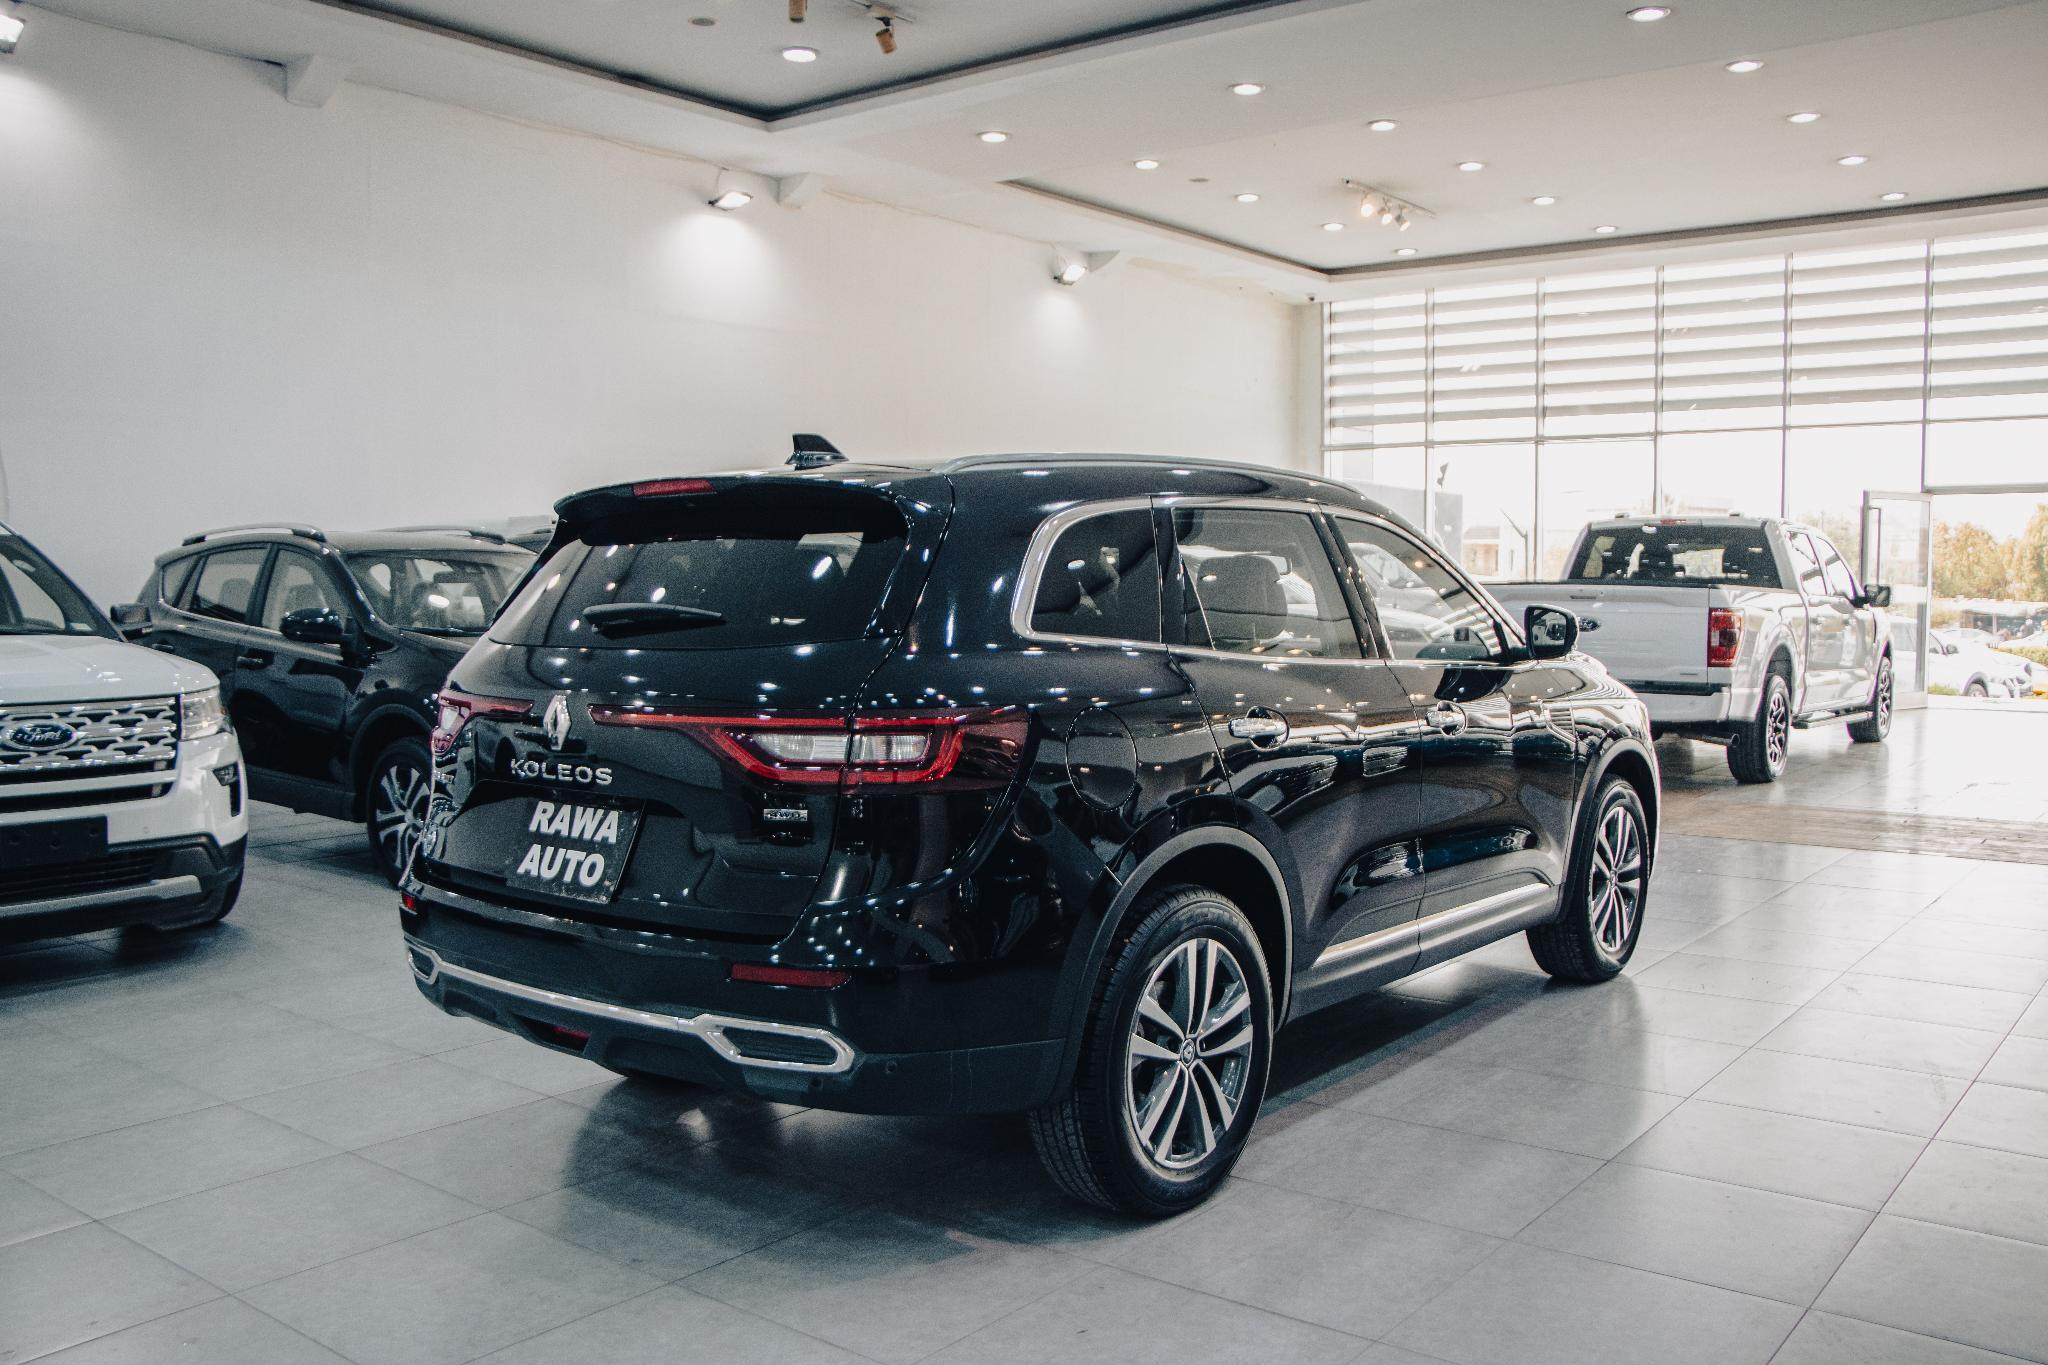Renault: (533, 680, 579, 762)
ford: (0, 704, 92, 770), (1562, 610, 1612, 642)
